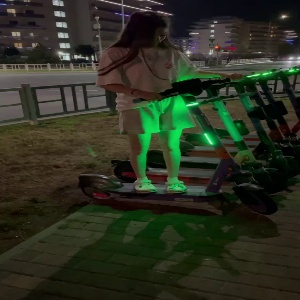human on a scooter: (75, 10, 278, 225)
